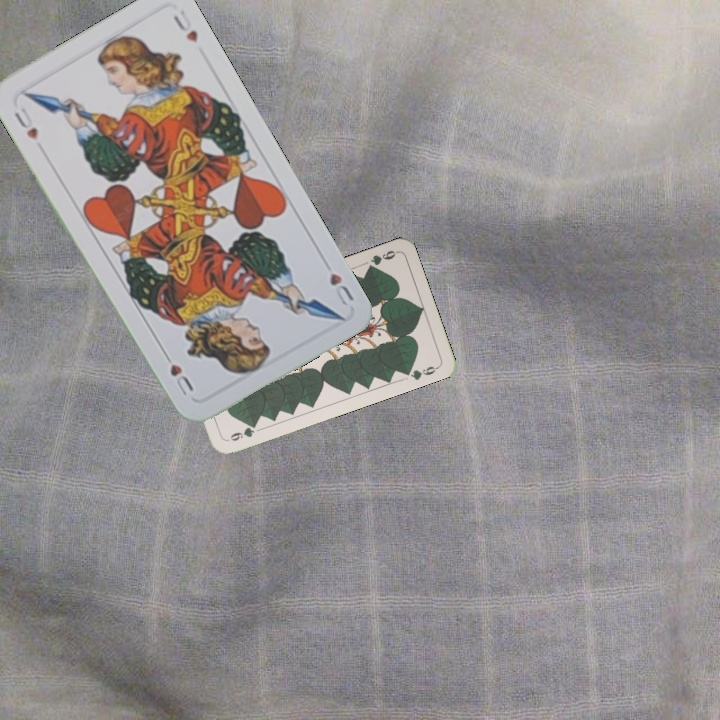G9: (363, 246, 400, 273), (223, 420, 260, 444)
HU: (325, 269, 357, 308), (10, 103, 41, 143)
